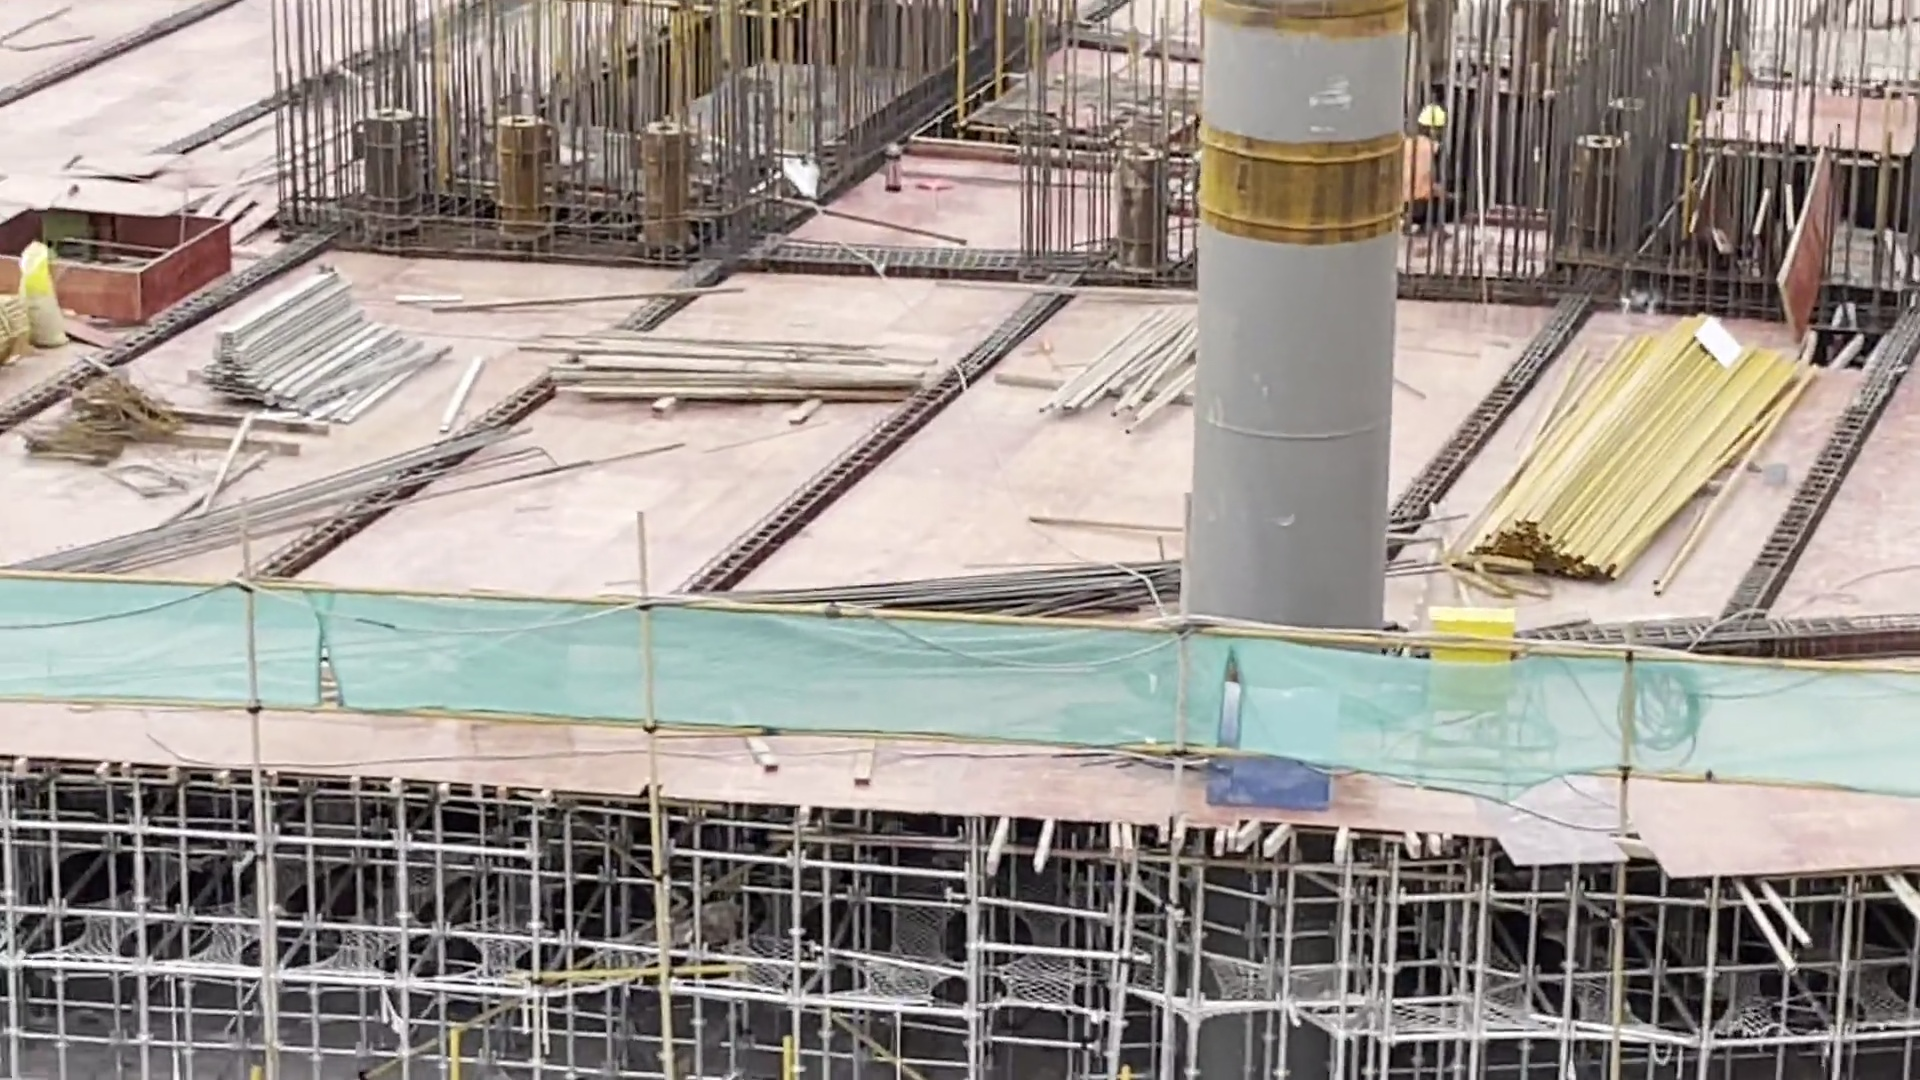person: (1397, 97, 1457, 236)
wood: (518, 323, 935, 419)
